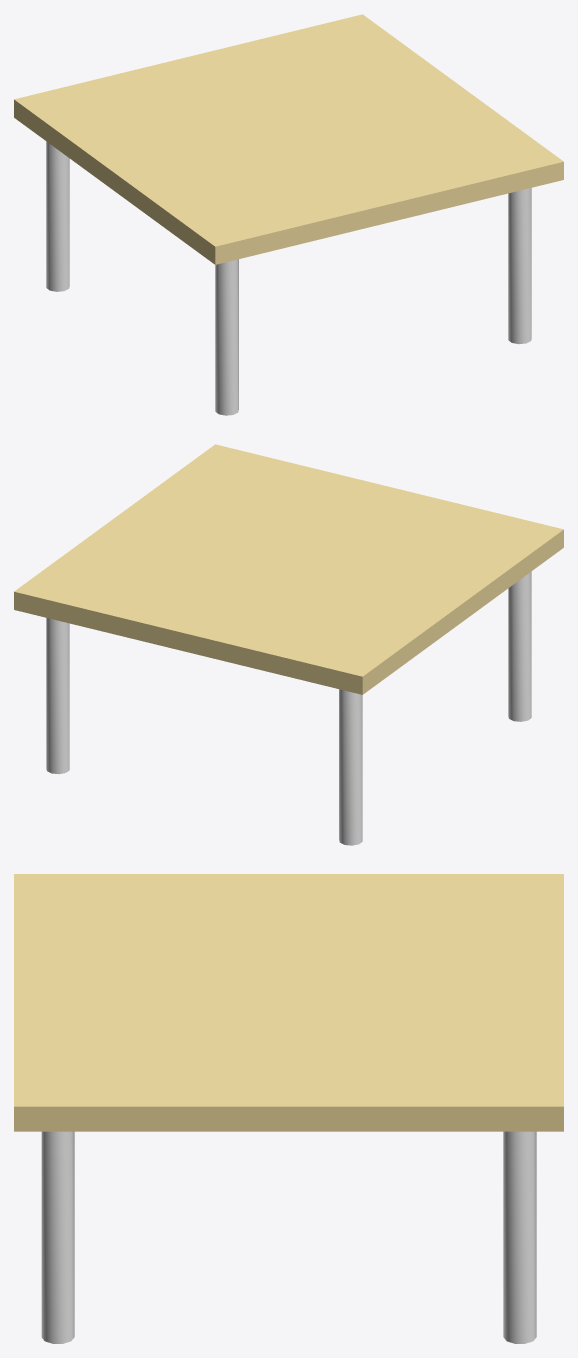
File: platform.glb
The picture shows the model from 3 angles, top to bottom: view 1: azimuth 30°, elevation 25°; view 2: azimuth 150°, elevation 25°; view 3: azimuth 270°, elevation 25°; orthographic projection. The views are drawn at different scales.
Visible parts, largest first — view 1: platform_top, platform_legs; view 2: platform_top, platform_legs; view 3: platform_top, platform_legs.
Part boxes in pixels (<box>): platform_top: <box>14,14,563,264</box>; platform_legs: <box>46,141,531,415</box>; platform_top: <box>14,444,563,694</box>; platform_legs: <box>46,571,531,845</box>; platform_top: <box>14,874,563,1131</box>; platform_legs: <box>41,1131,536,1343</box>.
Bounding box in the file's own units: 1 × 0.5 × 1.
